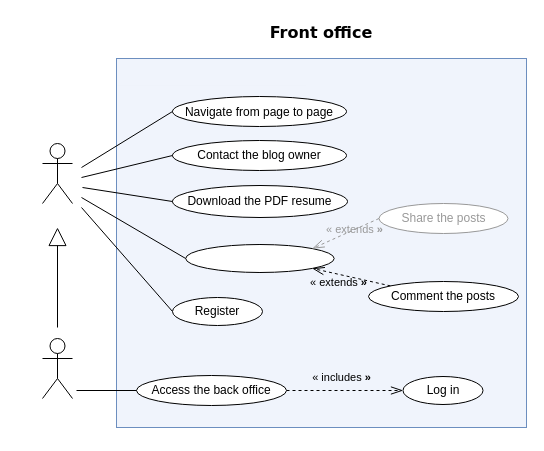
Image size: 544x451. Some labels were removed from this diagram. Each missing label, with the centre of its shape:
"Consult published posts" goes at (x=259, y=258).
"Professional blog - front office" goes at (x=211, y=72).
"Registered and validated user" goes at (x=57, y=368).
"Visitor" goes at (x=57, y=173).
